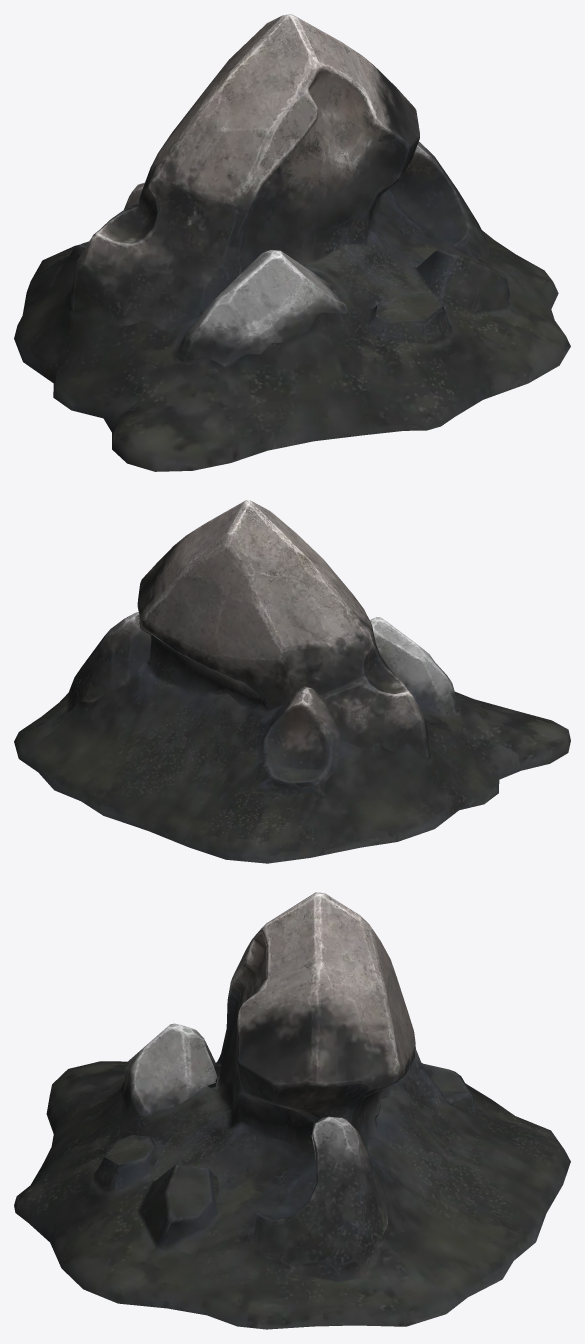
The picture shows the model from 3 angles, top to bottom: view 1: azimuth 30°, elevation 25°; view 2: azimuth 150°, elevation 25°; view 3: azimuth 270°, elevation 25°; orthographic projection. The views are drawn at different scales.
Parts seen in each view (by area): view 1: SM_Swamp_Tar_01_LOD0; view 2: SM_Swamp_Tar_01_LOD0; view 3: SM_Swamp_Tar_01_LOD0.
Boxes of the visible parts, left/top/right/bottom form: SM_Swamp_Tar_01_LOD0: left=14, top=14, right=570, bottom=471; SM_Swamp_Tar_01_LOD0: left=14, top=500, right=570, bottom=863; SM_Swamp_Tar_01_LOD0: left=14, top=892, right=570, bottom=1329.
Size of the model in its own units: 0.8503 by 0.4931 by 0.7851.
1 material, 1 textured.
